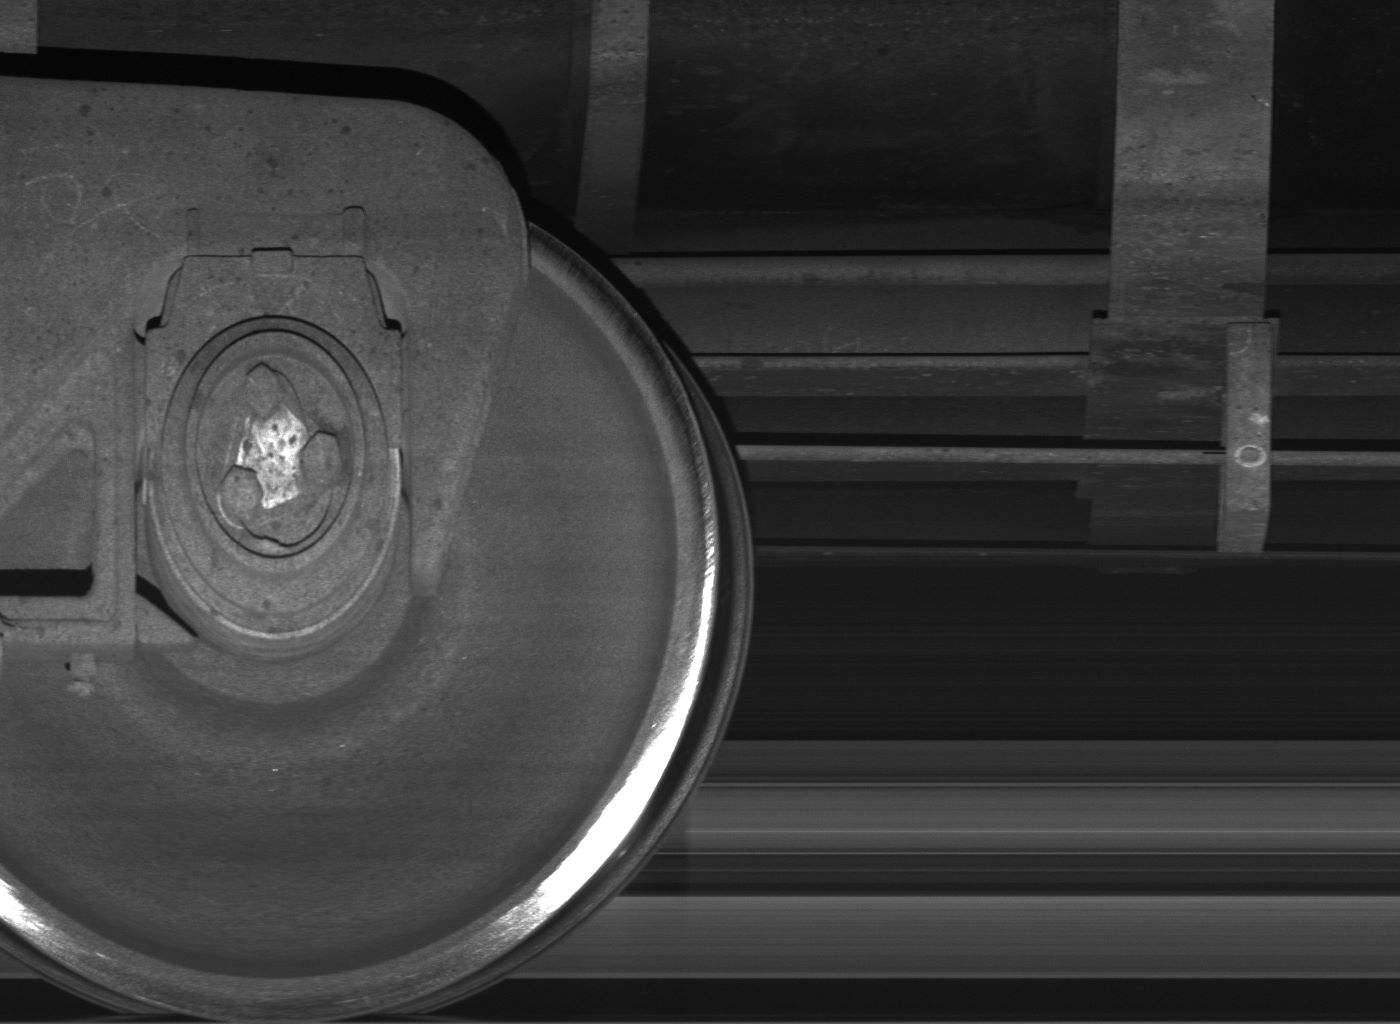normal: (1216, 325, 1274, 555)
